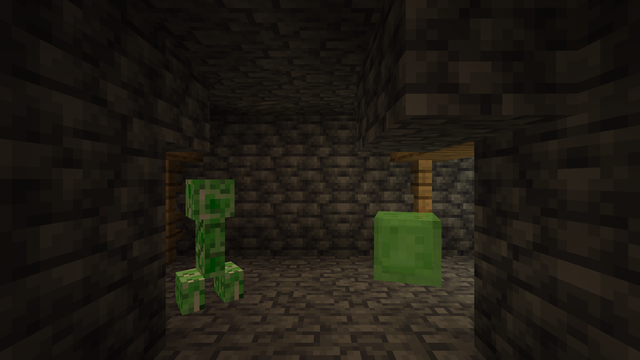creepers: (175, 173, 238, 309)
slimes: (370, 209, 450, 283)
